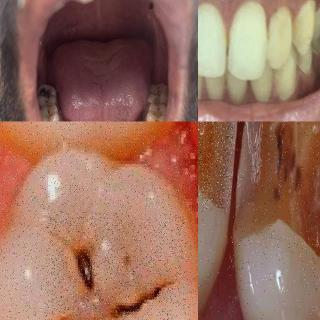cavities: (24, 208, 198, 320), (242, 121, 320, 261), (38, 84, 52, 105), (152, 84, 162, 100), (46, 107, 52, 121)
plaque: (290, 0, 318, 35), (275, 69, 297, 101), (258, 15, 278, 50), (295, 48, 315, 77), (221, 28, 238, 56), (311, 40, 320, 64)
stains: (145, 102, 166, 122), (41, 88, 59, 110), (45, 104, 63, 122), (147, 94, 155, 106)
